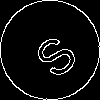S: (25, 25, 81, 82)
